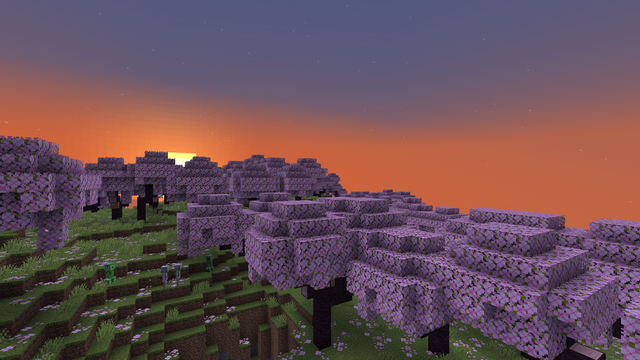creepers: (104, 260, 114, 283), (206, 253, 212, 271)
squelettes: (160, 264, 168, 290), (174, 263, 181, 288)
